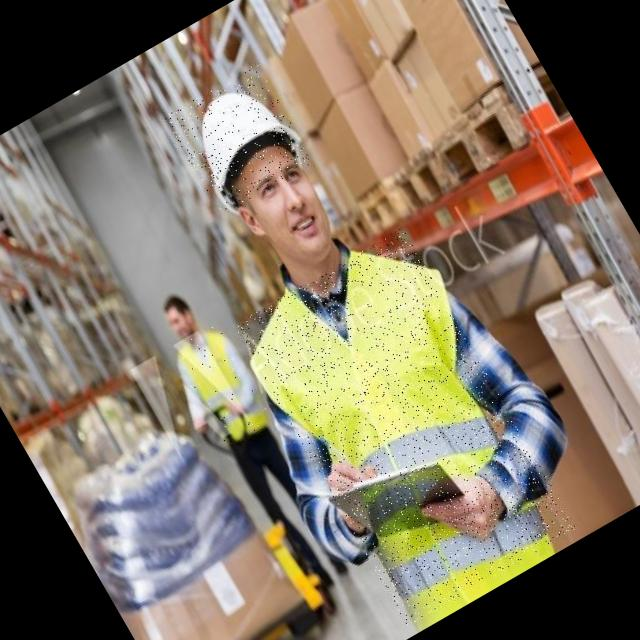hard_hat: (163, 63, 314, 216)
safety_vest: (234, 228, 577, 626), (170, 322, 276, 452)
